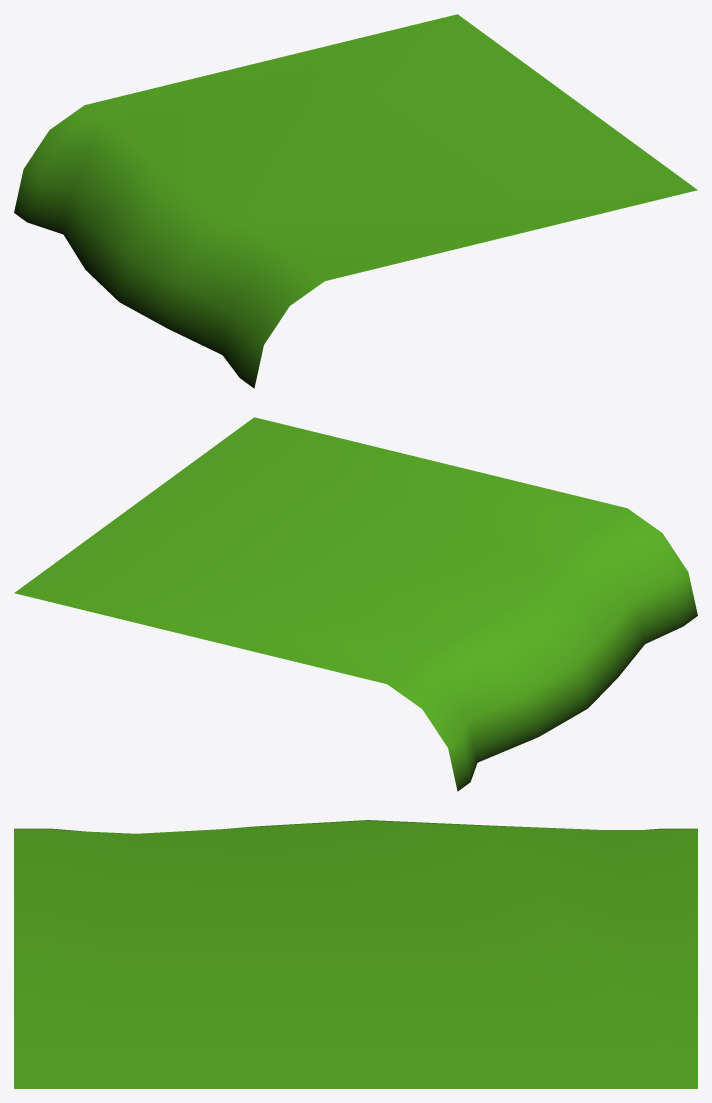
File: Surface_RoadUp01.fbx
The picture shows the model from 3 angles, top to bottom: view 1: azimuth 30°, elevation 25°; view 2: azimuth 150°, elevation 25°; view 3: azimuth 270°, elevation 25°; orthographic projection. The views are drawn at different scales.
Visible parts, largest first — view 1: Surface_RoadUp01; view 2: Surface_RoadUp01; view 3: Surface_RoadUp01.
Part boxes in pixels (x1=…): Surface_RoadUp01: x1=14, y1=14, x2=697, y2=388; Surface_RoadUp01: x1=14, y1=417, x2=697, y2=791; Surface_RoadUp01: x1=14, y1=820, x2=697, y2=1088.
Bounding box in the file's own units: 2192 × 415 × 2000.
